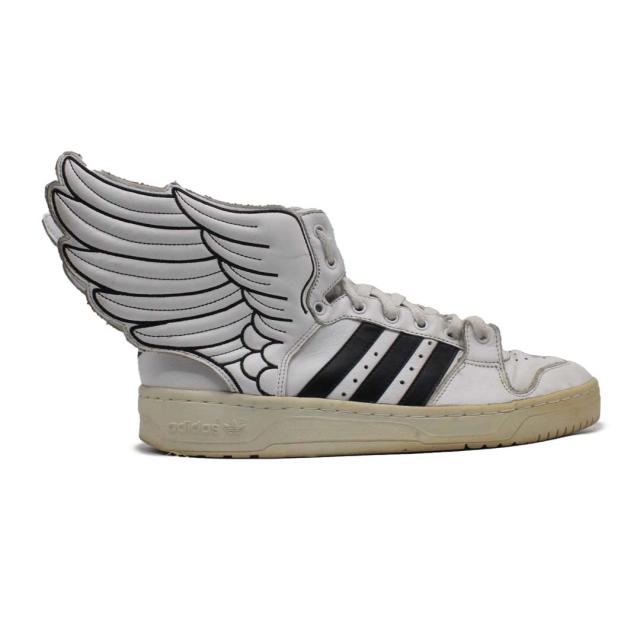heel: (44, 131, 160, 385)
midsole: (127, 384, 613, 462)
uppersole: (162, 151, 609, 404)
